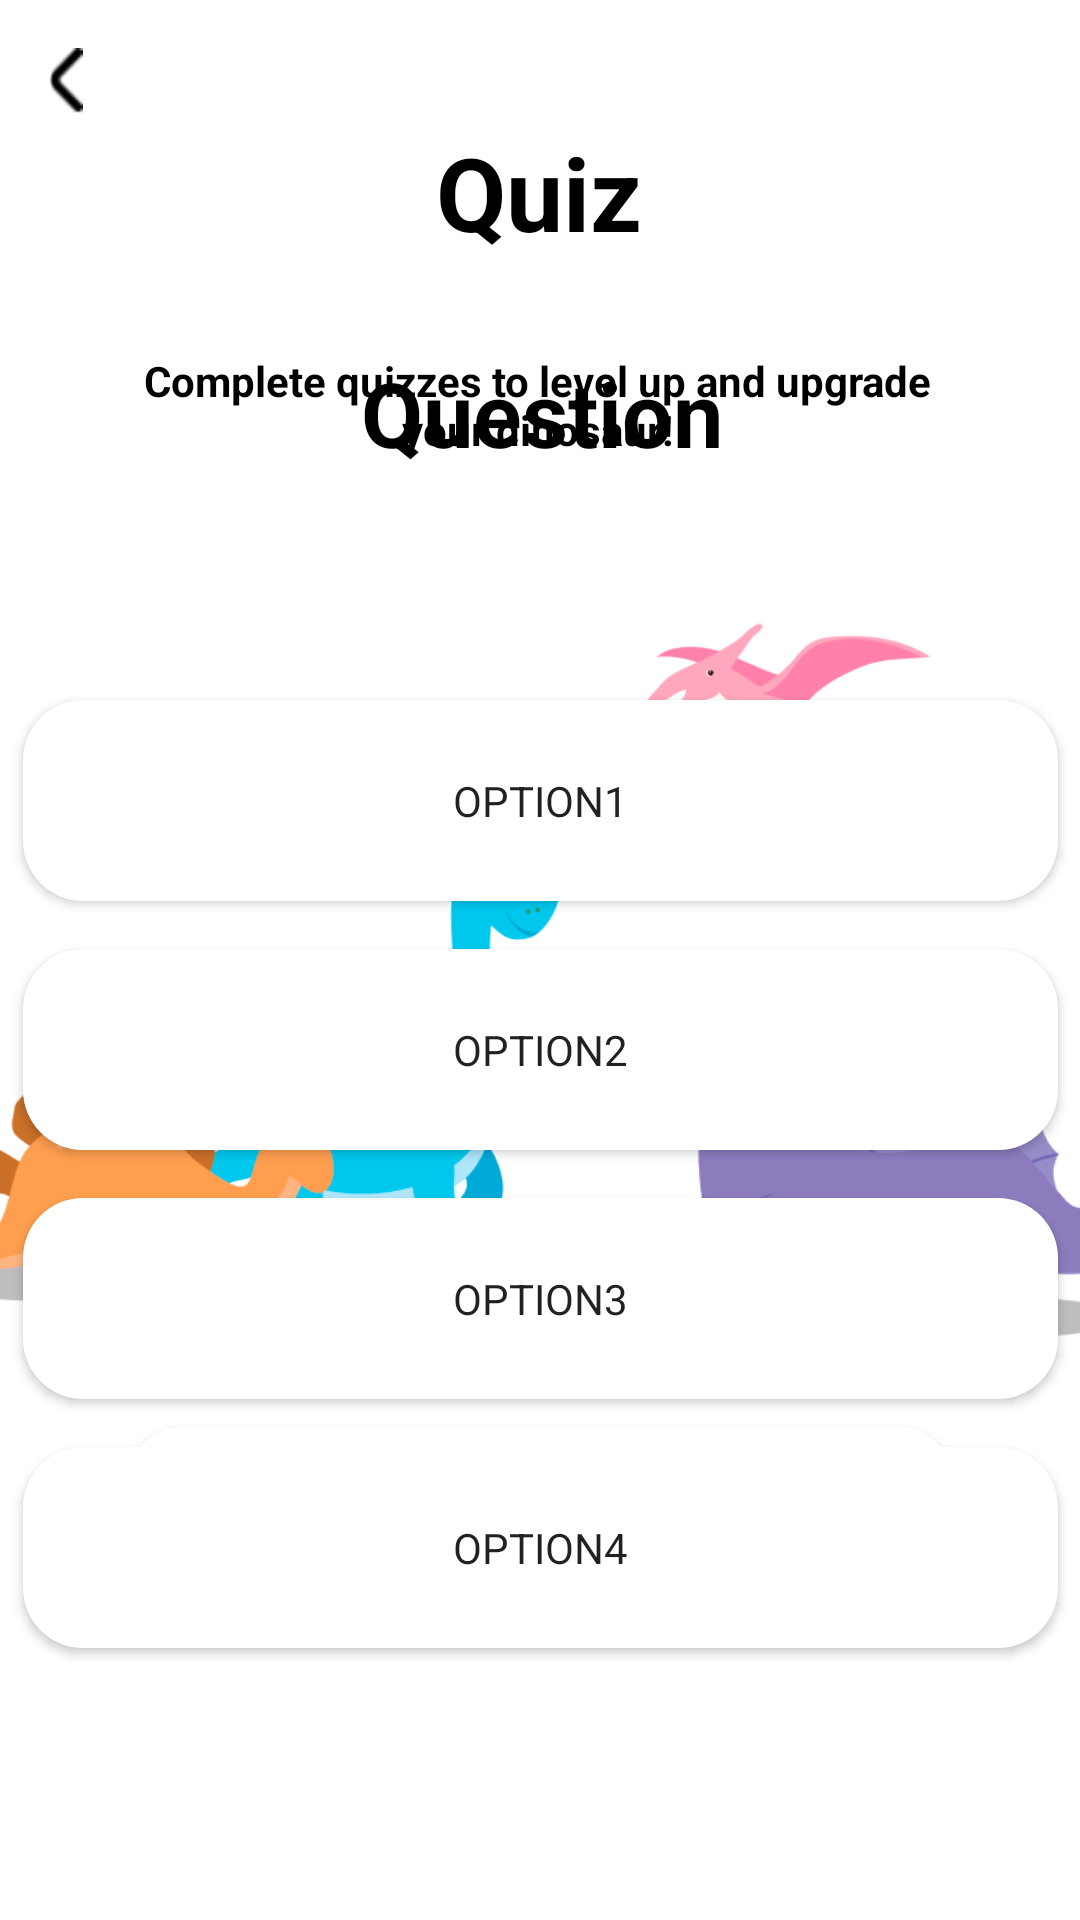

Icons on this 1080×1920 Android screen, each with the point to tap as (x,y):
back: (66,80)
